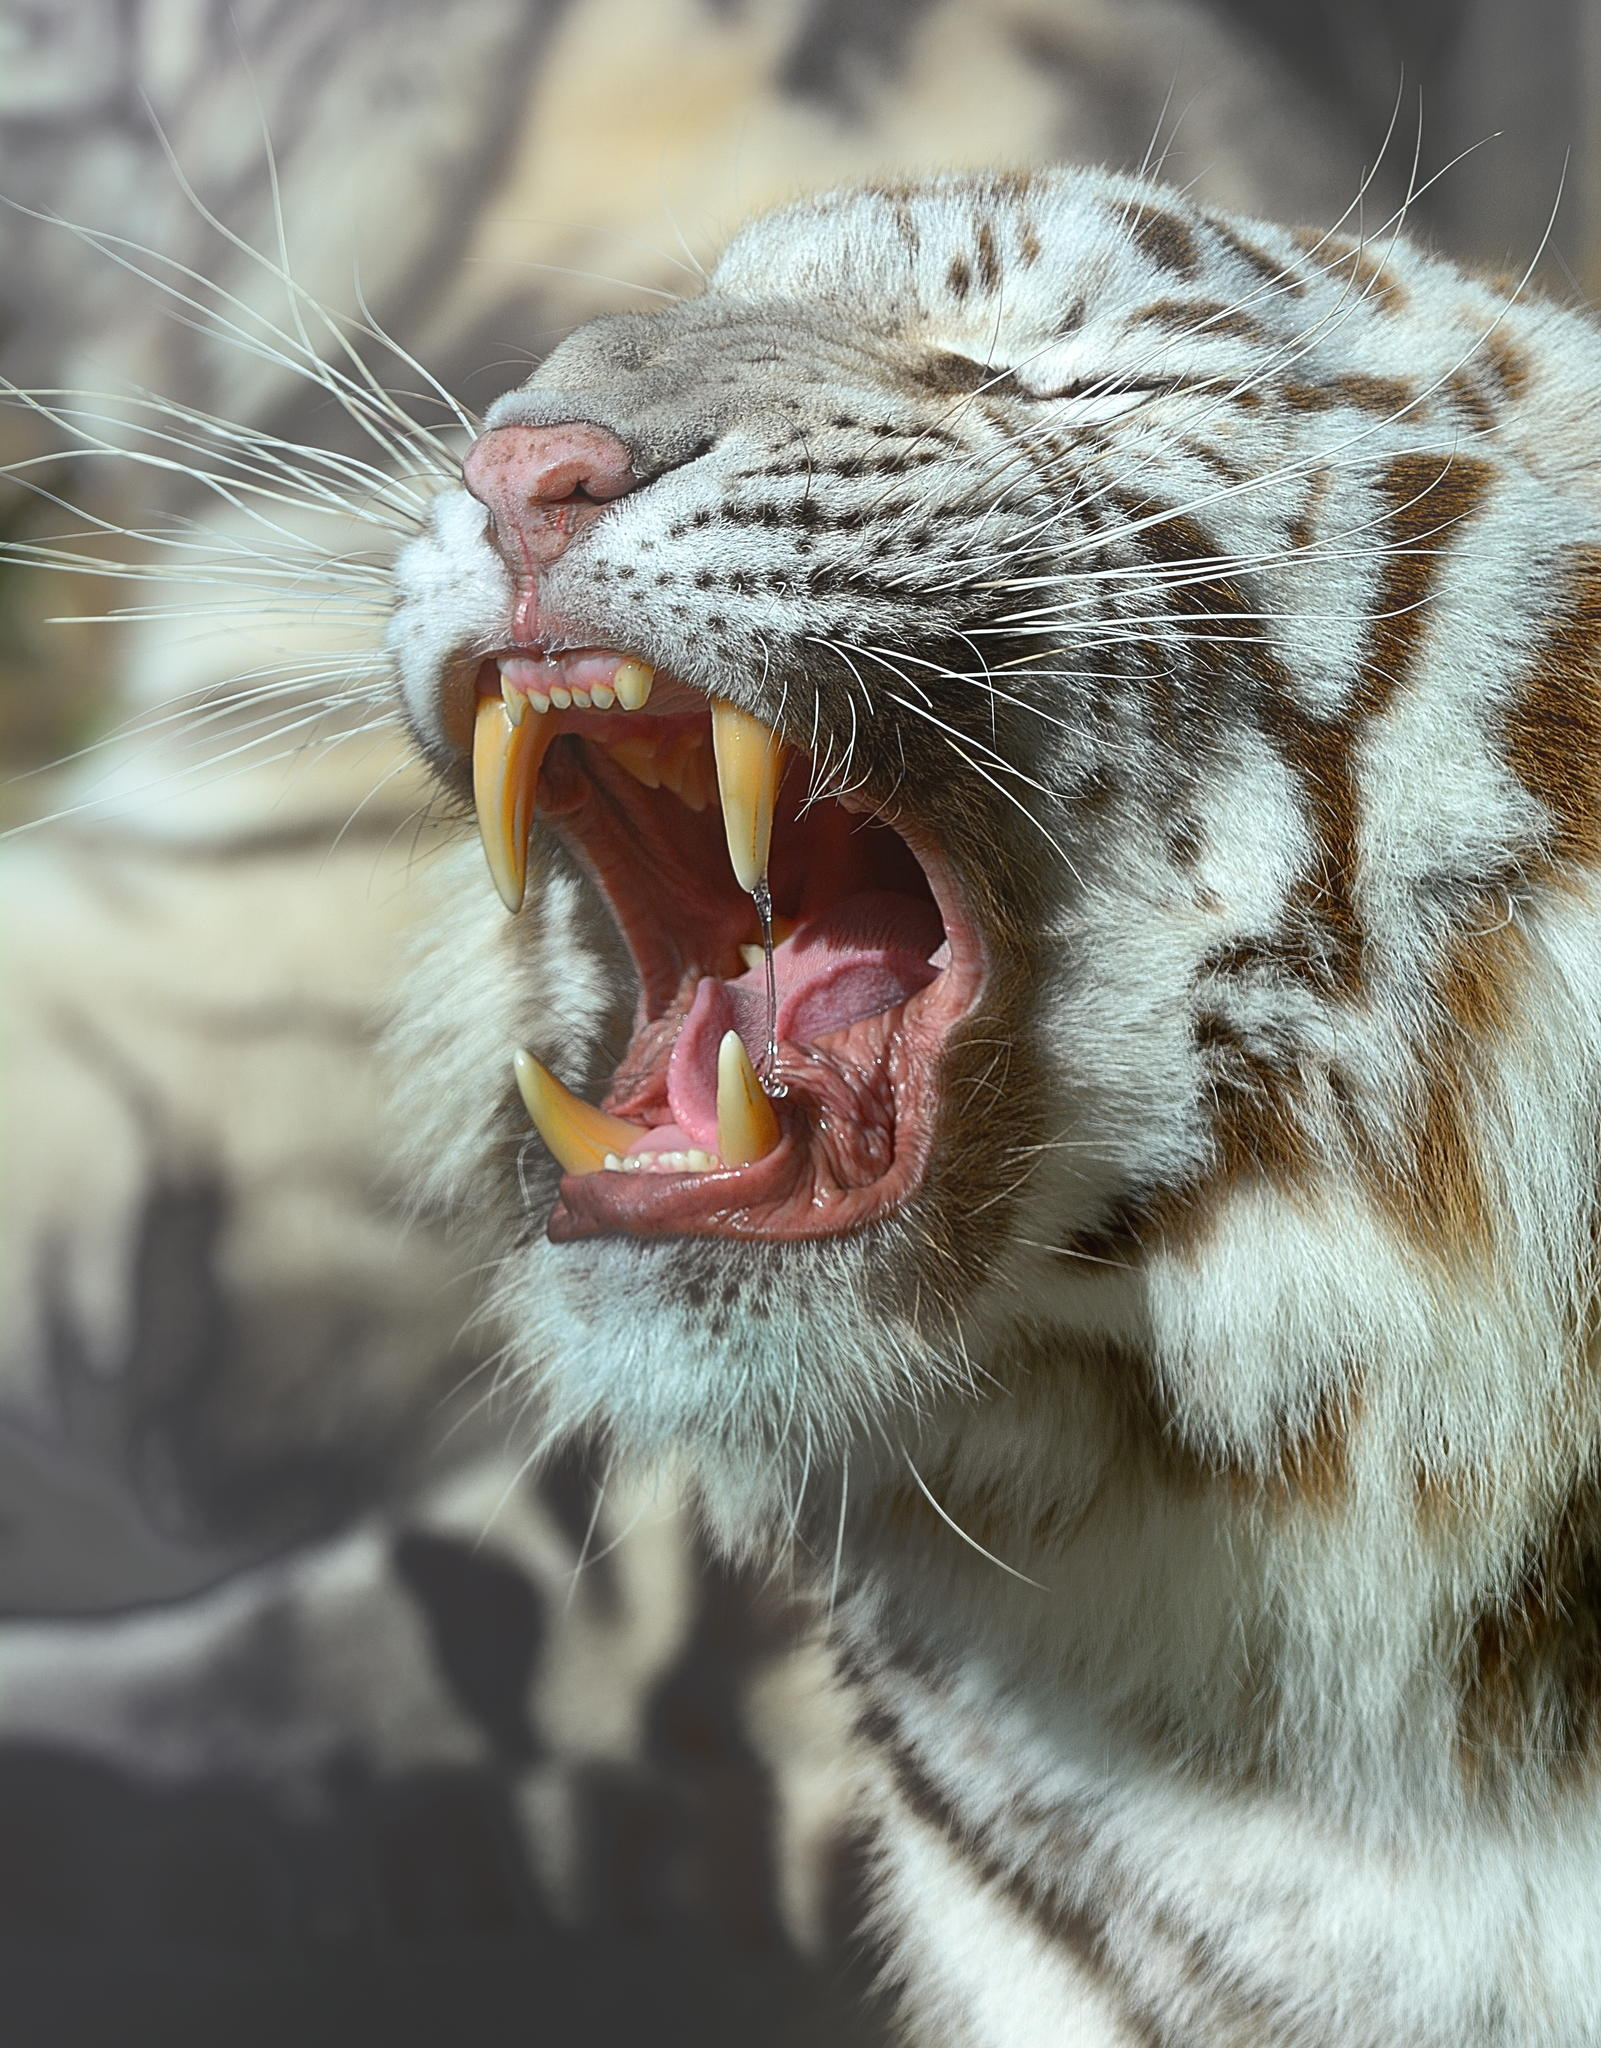tiger: (419, 115, 1601, 1702)
